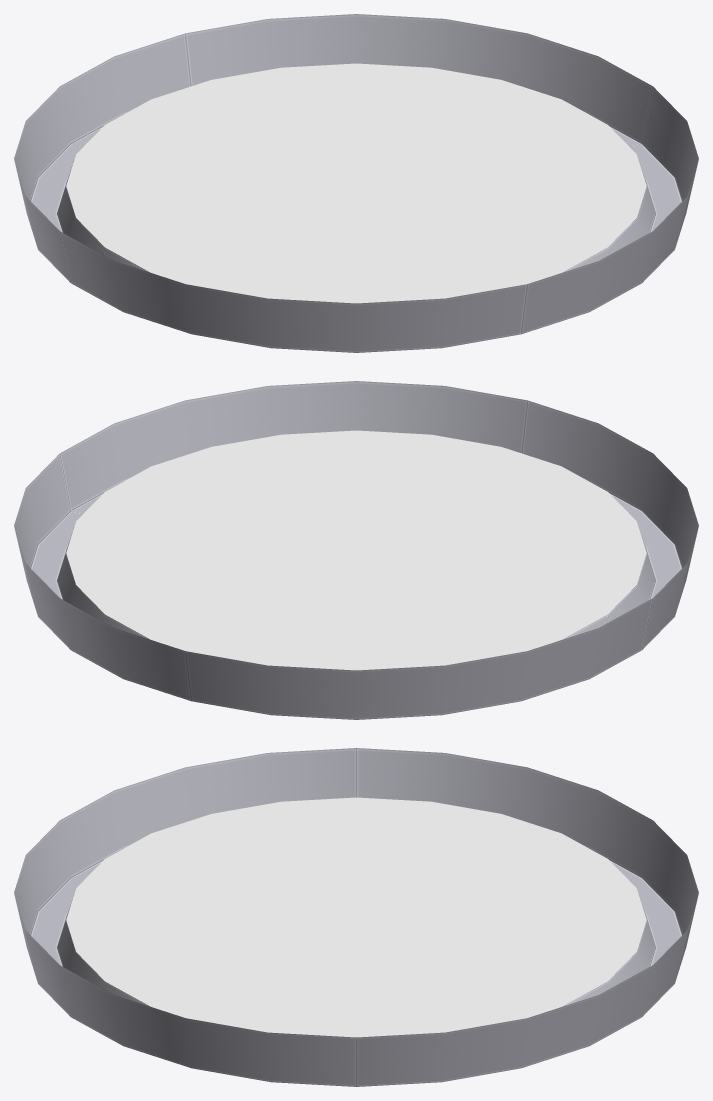
The model's file is Big_Light_01.FBX.
3 renders of one model, top to bottom at view 1: azimuth 30°, elevation 25°; view 2: azimuth 150°, elevation 25°; view 3: azimuth 270°, elevation 25°, orthographic.
Visible parts, largest first — view 1: Big_Light_01; view 2: Big_Light_01; view 3: Big_Light_01.
Boxes of the visible parts, box(x1,y1,x2,y2) form: Big_Light_01: box(14, 14, 698, 352); Big_Light_01: box(14, 381, 698, 719); Big_Light_01: box(14, 748, 698, 1086).
Bounding box in the file's own units: 4.63 × 0.409 × 4.63.
Materials: 1 (1 with a texture image).
